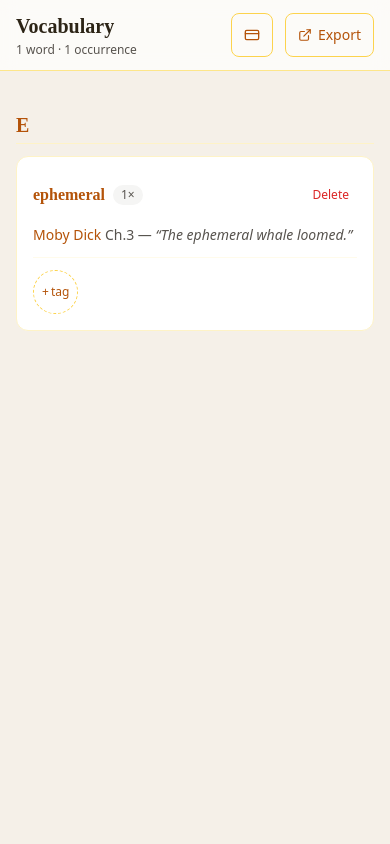
Undo keeps the word on the server, even after the undo window elapses
Click the button with test id "delete-ephemeral": (331, 195) [304,173,357,217]
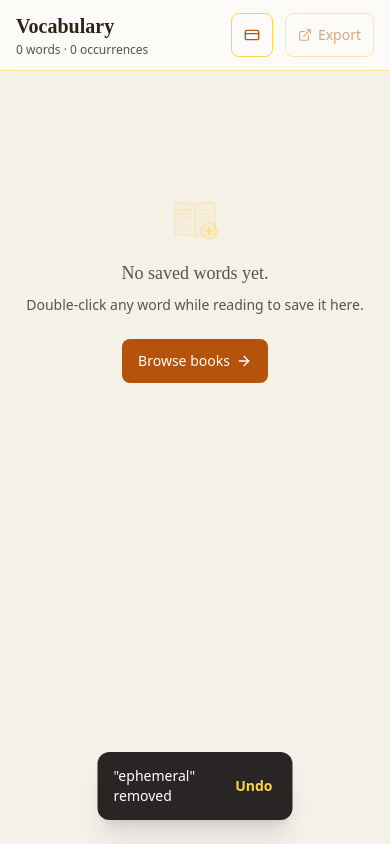
Click the button "Undo": (254, 786) [231,764,276,808]
Wait 5300 ms
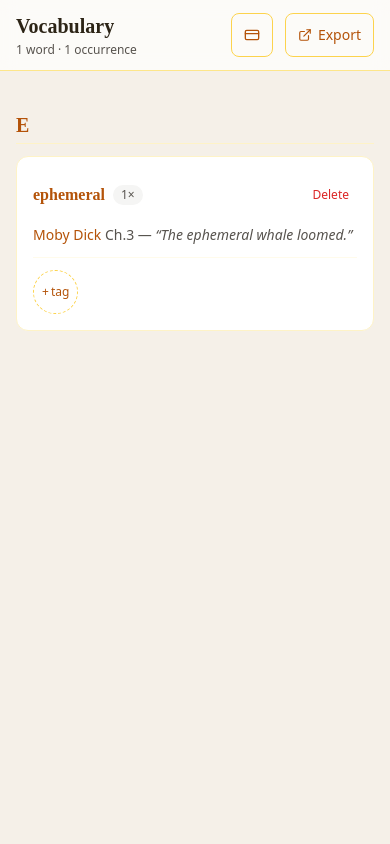
Result: the button "ephemeral" is shown at [33,173,105,217]
